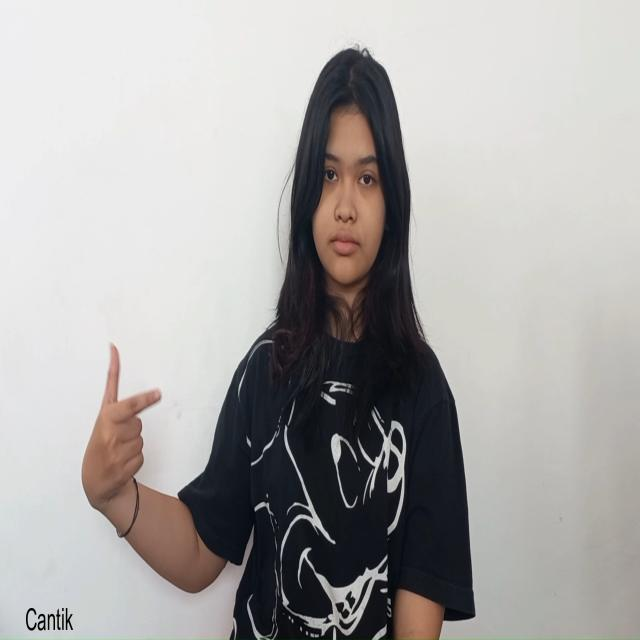Cantik -BISINDO-: (80, 338, 163, 527)
